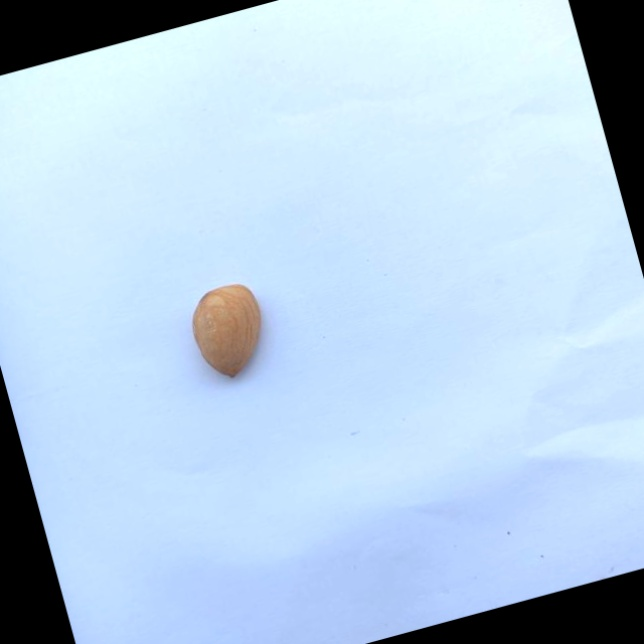grade2: (180, 274, 283, 388)
